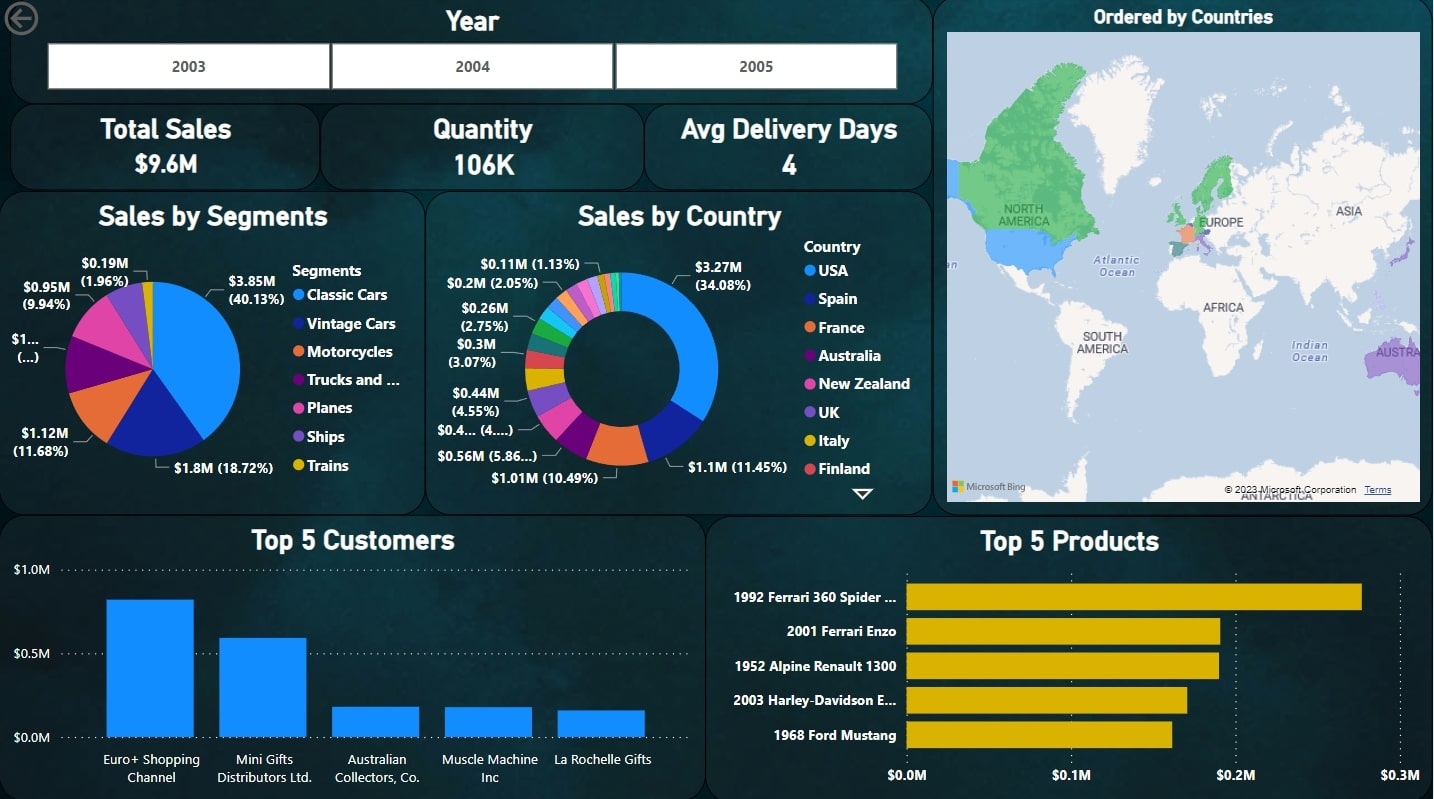

Layout of this report page (visuals, bound fields, positions):
{"tool":"powerbi","page":{"name":"Dashboard","canvas":[1280,720],"ordinal":0},"visuals":[{"type":"slicer","title":"Year","fields":{"Values":["orders.year"]},"box":[10.5,0,823.8,96.4],"z":0},{"type":"card","title":"Total Sales","fields":{"Values":["Sum(orderdetails.totalSales)"]},"box":[10.5,96.4,276.5,77.9],"z":1},{"type":"card","title":"Quantity","fields":{"Values":["Sum(orderdetails.quantityOrdered)"]},"box":[287,96.4,289.3,77.9],"z":2},{"type":"card","title":"Avg Delivery Days","fields":{"Values":["Avg(orders.deliveryDays)"]},"box":[576.3,96.4,258,77.9],"z":3},{"type":"pieChart","title":"Sales by Segments","fields":{"Category":["productlines.productLine"],"Y":["Sum(orderdetails.totalSales)"]},"box":[0,174.3,381.1,289.3],"z":4},{"type":"donutChart","title":"Sales by Country","fields":{"Y":["Sum(orderdetails.totalSales)"],"Category":["customers.country"]},"box":[381.1,174.3,453.2,289.3],"z":5},{"type":"filledMap","title":"Ordered by Countries","fields":{"Category":["customers.country"],"Series":["orderdetails.quantityOrdered"]},"box":[834.3,0,446.2,463.6],"z":6},{"type":"actionButton","box":[0,0,100,40],"z":7},{"type":"columnChart","title":"Top 5 Customers","fields":{"Category":["customers.customerName"],"Y":["Sum(orderdetails.totalSales)"]},"box":[0,463.6,630.9,255.6],"z":8},{"type":"clusteredBarChart","title":"Top 5 Products","fields":{"Category":["products.productName"],"Y":["Sum(orderdetails.totalSales)"]},"box":[630.9,464.8,649.5,255.6],"z":9}]}

Visuals, with their boxes in screenshot pixels (x1, y1, x2, y2), scaled from the page's 1280x720 canvas onto the 1434x799 screenshot:
"Year" slicer: {"x1": 12, "y1": 0, "x2": 935, "y2": 107}
"Total Sales" card: {"x1": 12, "y1": 107, "x2": 322, "y2": 193}
"Quantity" card: {"x1": 322, "y1": 107, "x2": 646, "y2": 193}
"Avg Delivery Days" card: {"x1": 646, "y1": 107, "x2": 935, "y2": 193}
"Sales by Segments" pieChart: {"x1": 0, "y1": 193, "x2": 427, "y2": 514}
"Sales by Country" donutChart: {"x1": 427, "y1": 193, "x2": 935, "y2": 514}
"Ordered by Countries" filledMap: {"x1": 935, "y1": 0, "x2": 1433, "y2": 514}
actionButton: {"x1": 0, "y1": 0, "x2": 112, "y2": 44}
"Top 5 Customers" columnChart: {"x1": 0, "y1": 514, "x2": 707, "y2": 798}
"Top 5 Products" clusteredBarChart: {"x1": 707, "y1": 516, "x2": 1433, "y2": 798}
